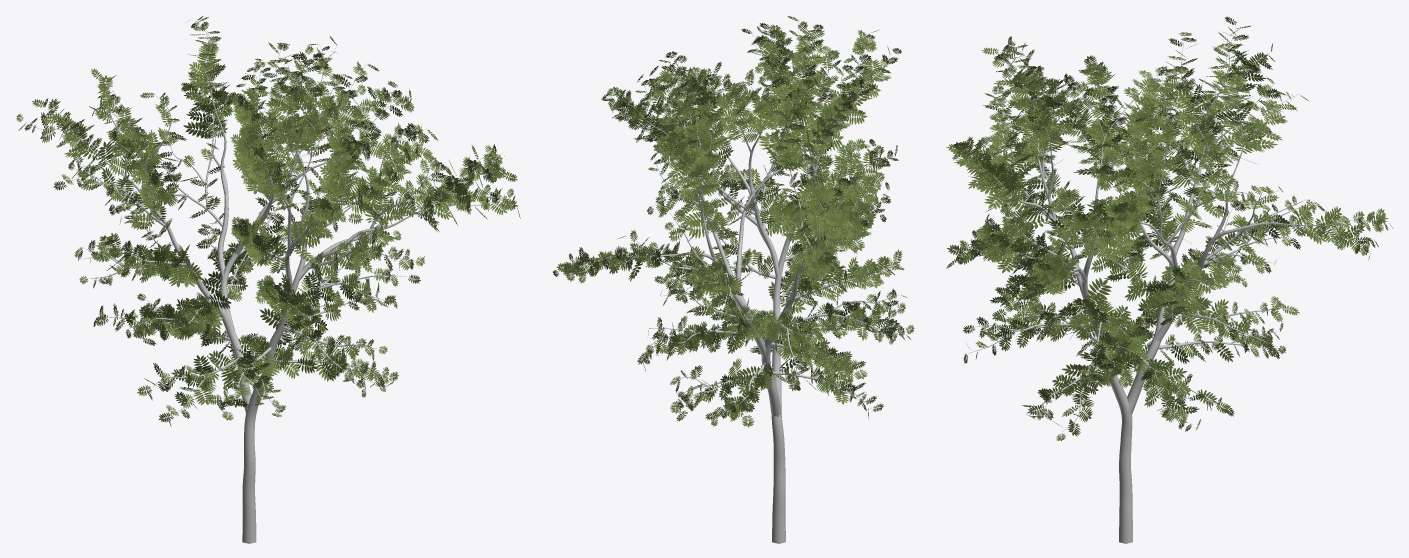
File: Amazonie_Arbre_11.fbx
3 renders of one model, left to right at view 1: azimuth 30°, elevation 25°; view 2: azimuth 150°, elevation 25°; view 3: azimuth 270°, elevation 25°, orthographic.
Parts seen in each view (by area): view 1: Plane.001, tree; view 2: Plane.001, tree; view 3: Plane.001, tree.
Part boxes in pixels (x1=…): Plane.001: x1=16, y1=16, x2=520, y2=426; tree: x1=25, y1=19, x2=513, y2=543; Plane.001: x1=553, y1=16, x2=914, y2=427; tree: x1=570, y1=22, x2=905, y2=543; Plane.001: x1=946, y1=16, x2=1392, y2=441; tree: x1=961, y1=28, x2=1388, y2=543.
Bounding box in the file's own units: 781 × 945 × 781.
